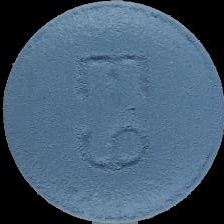42291-273: (0, 0, 224, 224)
